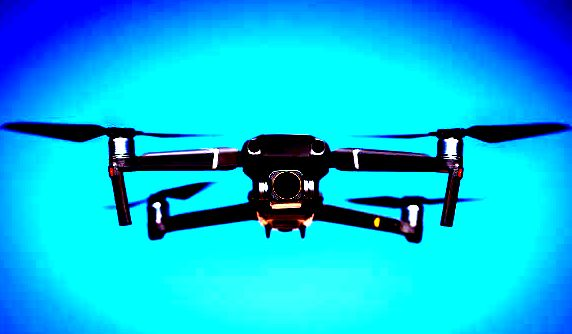Drone: (3, 113, 566, 250)
